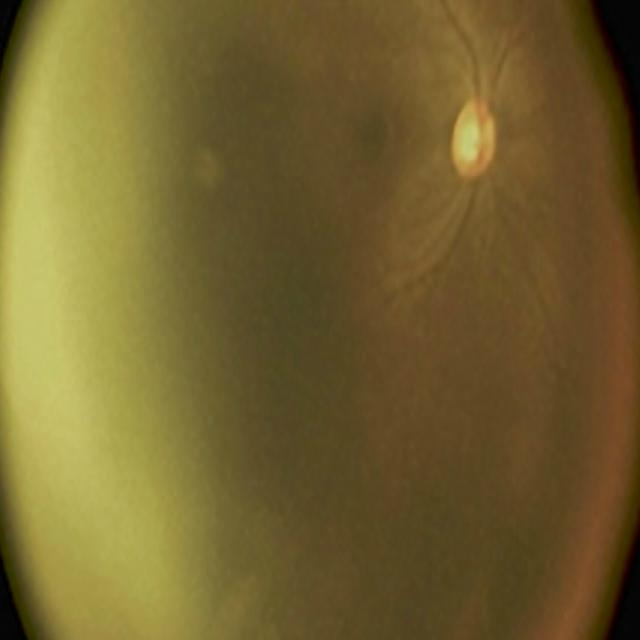optic-nerve: (423, 48, 525, 224)
